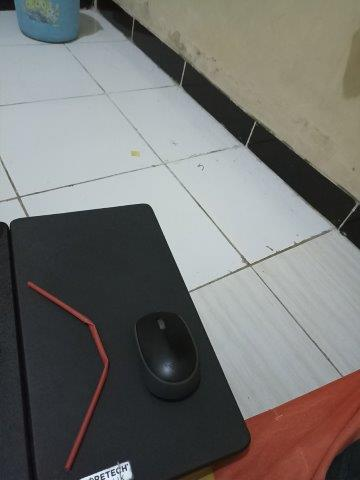sedotan: (28, 282, 109, 469)
